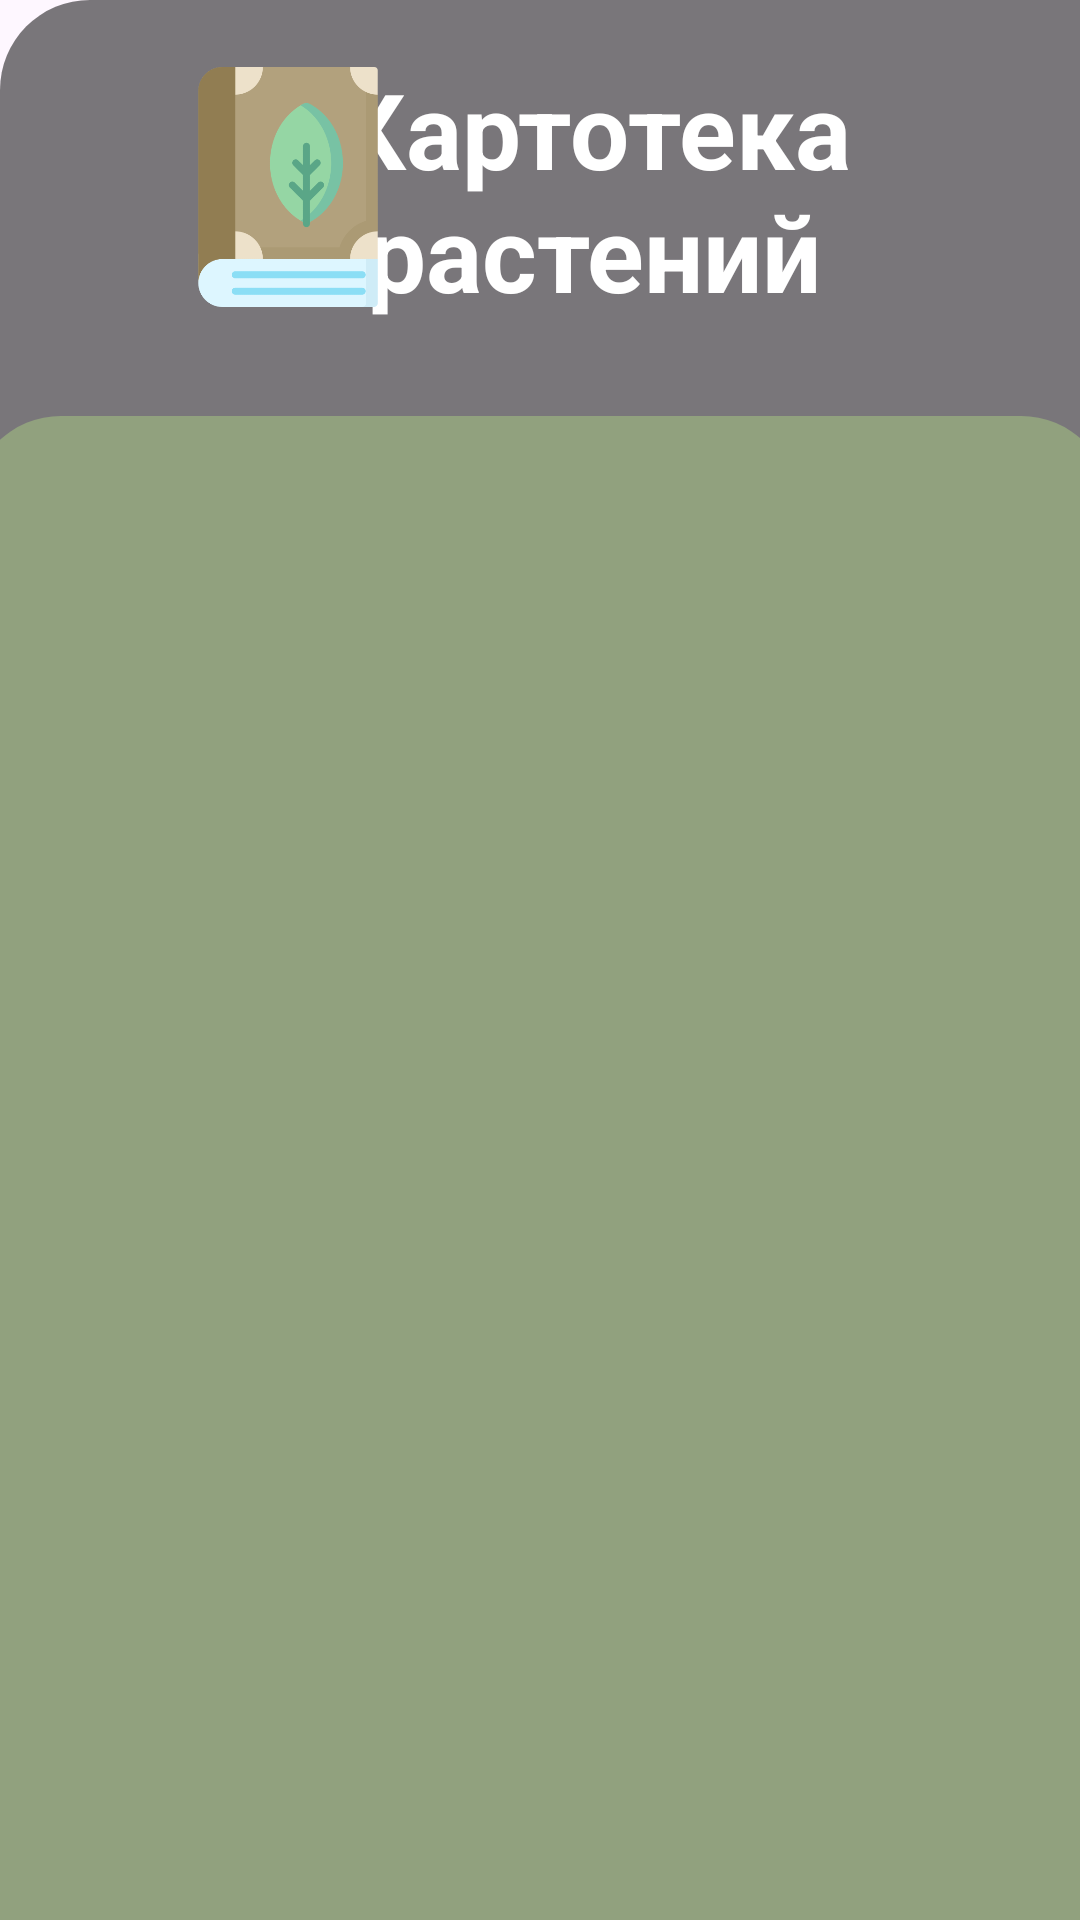

Screen size 1080w x 1920h. Icon name, then its box in pixels as (x1, y1, x2, y2):
botanic: (198, 67, 408, 307)
